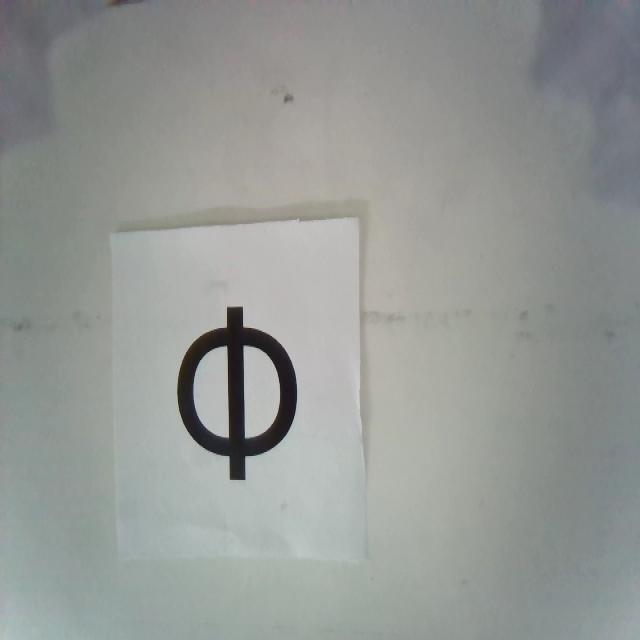F: (177, 308, 298, 475)
